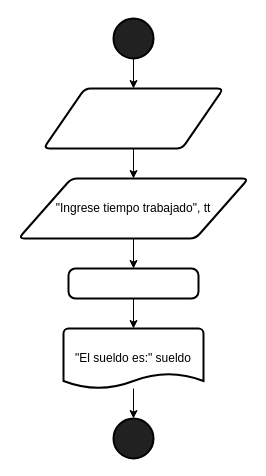
The diagram is 266 pixels wide and 476 high, and some of its shapes have lost their labels. The shapes that lost their labels are listed below. From the top down, each one's centre as x and y in pixels, then its label:
(133,118): "Ingrese valor hora", vh
(133,283): sueldo = vh * tt
